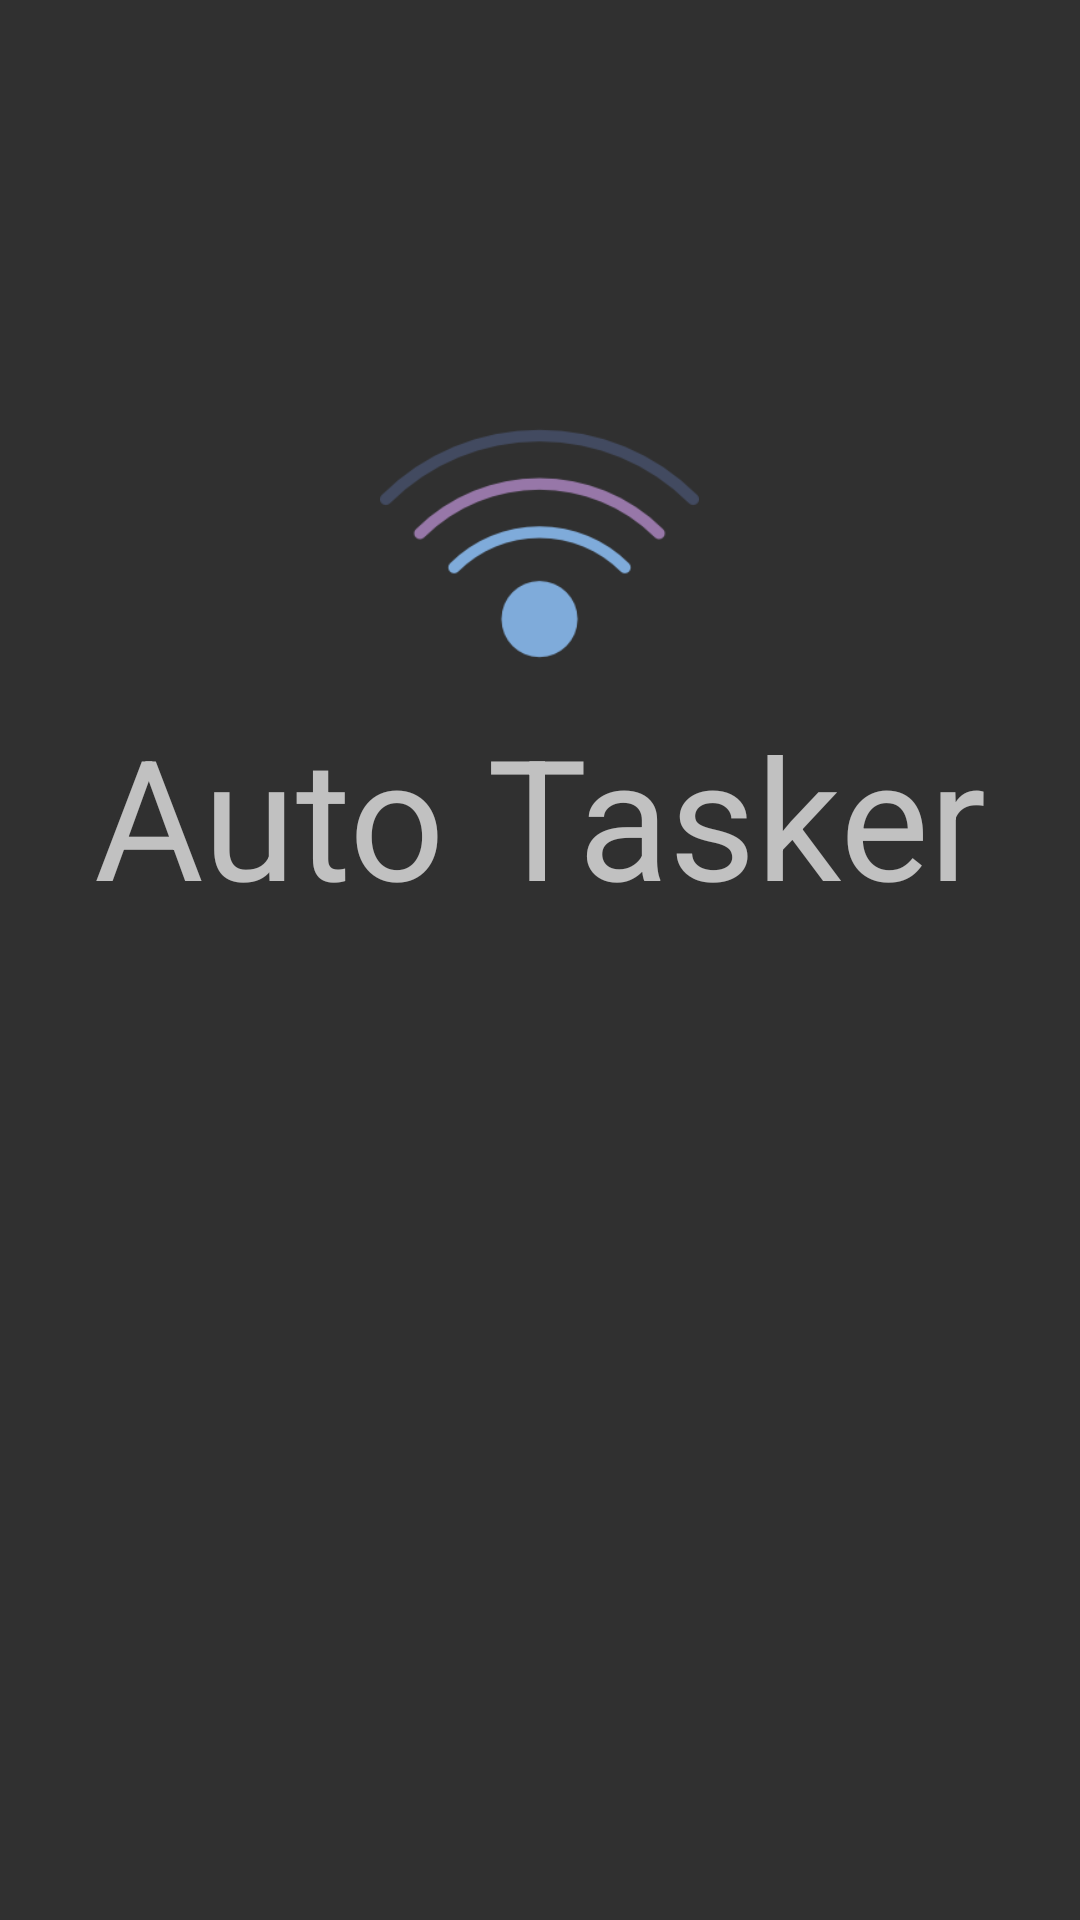

Locate icon controls on the screen. Image size 1080w x 1920h, boxes as (x1, y1, x2, y2).
wifi: (380, 430, 699, 658)
